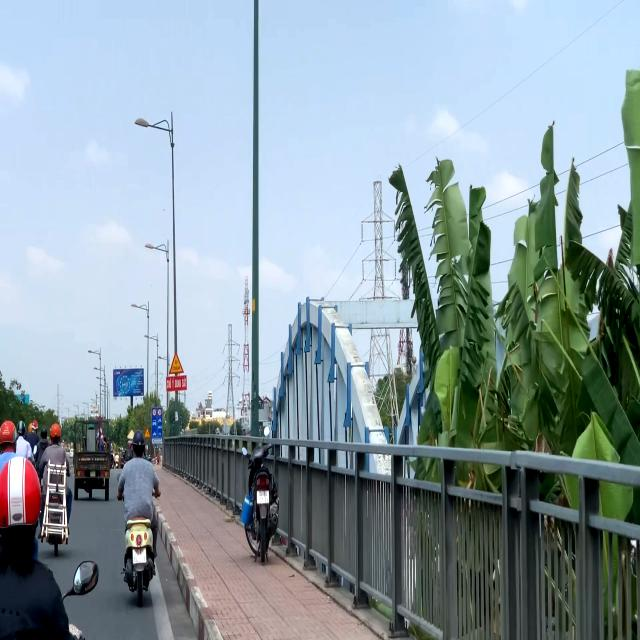P.127: (152, 408, 157, 416), (157, 408, 162, 416)
W.245a: (168, 351, 184, 375)
